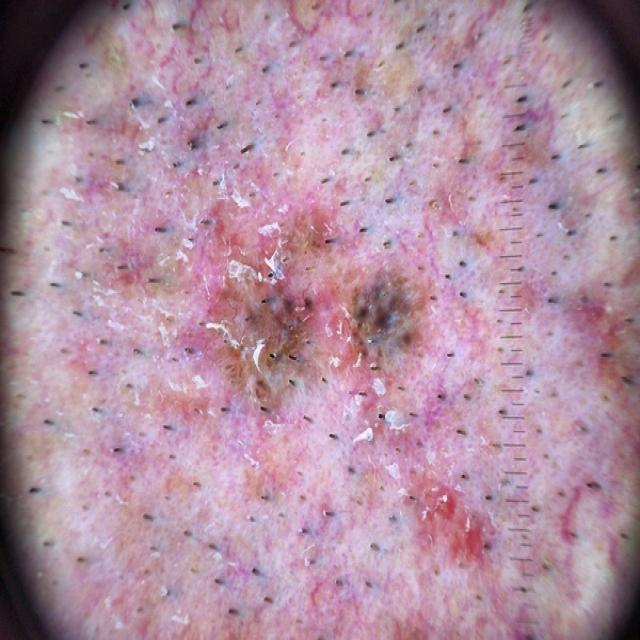Basal-Cell-Carcinoma-BCC-: (17, 57, 583, 574)
